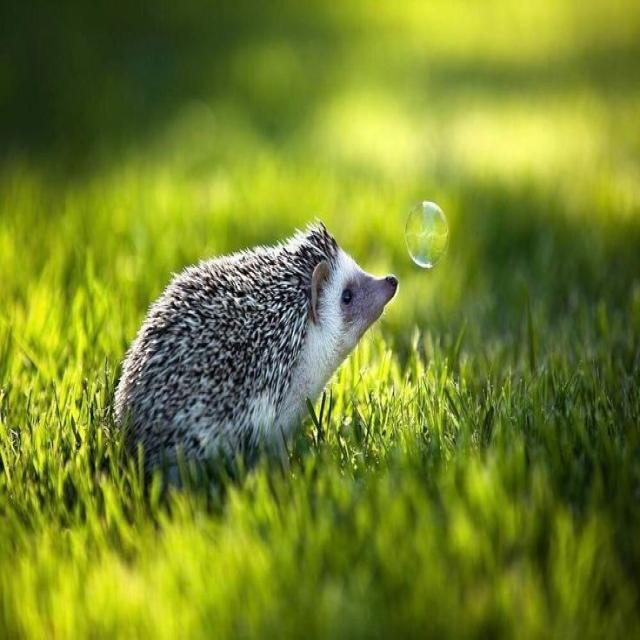Hedgehog: (108, 221, 400, 477)
